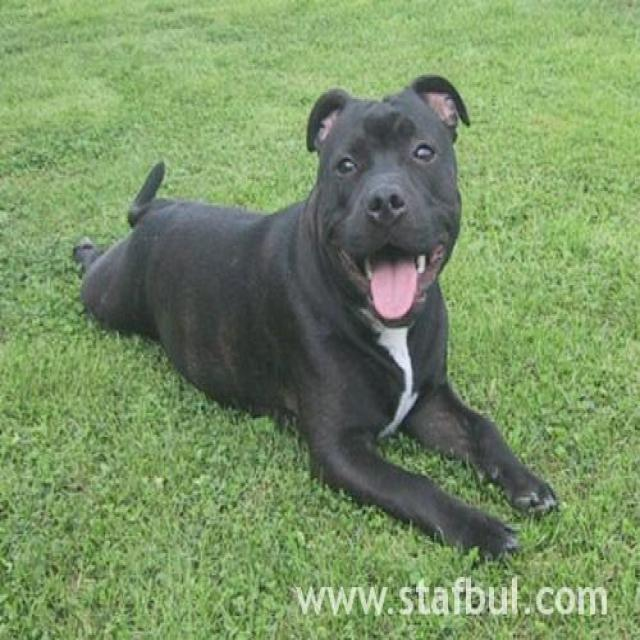staffordshire_bullterrier: (74, 75, 561, 562)
